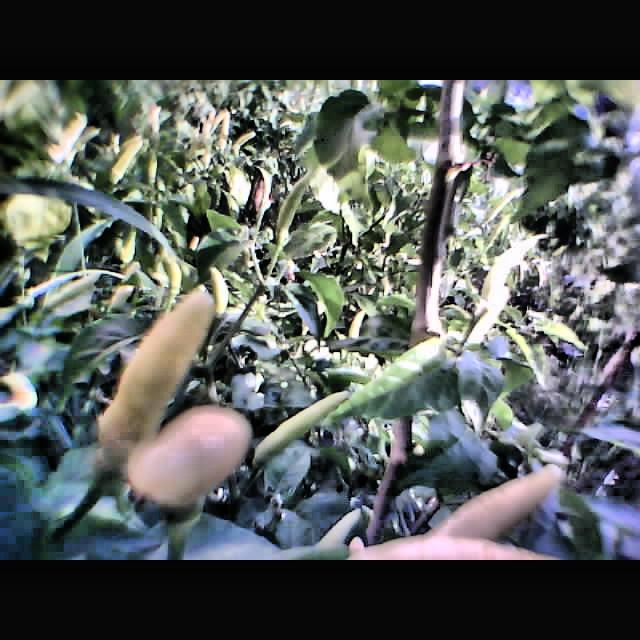Cabai: (147, 413, 246, 505)
